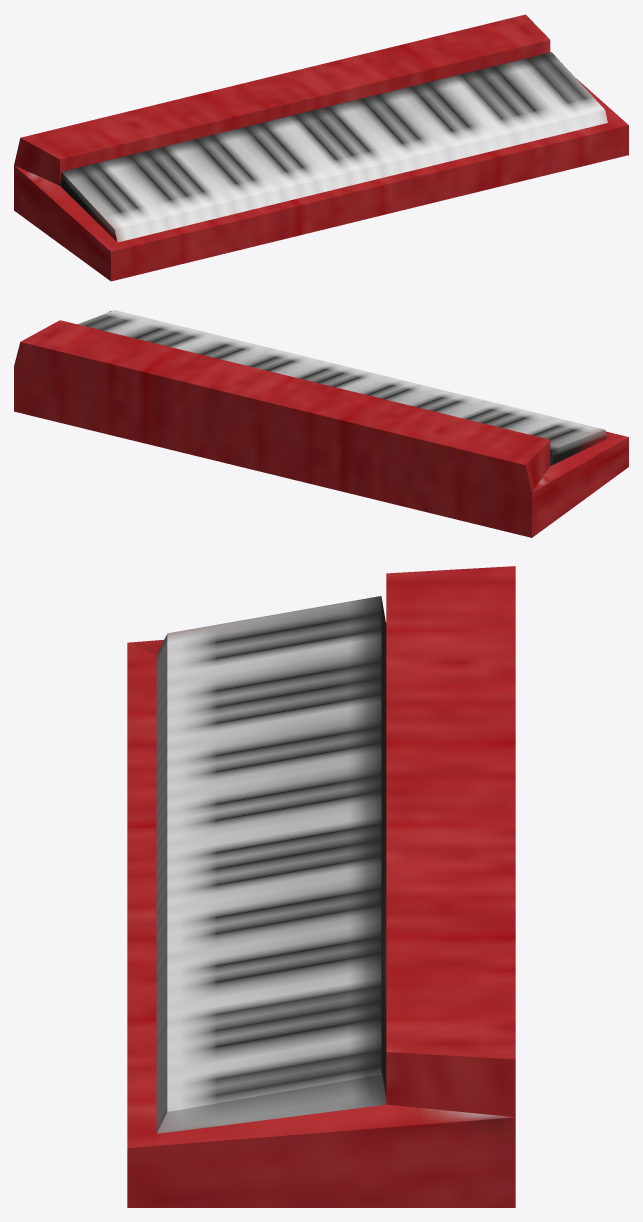
The model's file is int_piano_red.fbx.
3 renders of one model, top to bottom at view 1: azimuth 30°, elevation 25°; view 2: azimuth 150°, elevation 25°; view 3: azimuth 270°, elevation 25°, orthographic. The views are drawn at different scales.
Visible parts, largest first — view 1: keyboard_small.003; view 2: keyboard_small.003; view 3: keyboard_small.003.
Boxes of the visible parts, x1=… form: keyboard_small.003: x1=14, y1=14, x2=628, y2=281; keyboard_small.003: x1=14, y1=310, x2=628, y2=537; keyboard_small.003: x1=127, y1=566, x2=515, y2=1207.
Bounding box in the file's own units: 116 × 15.24 × 37.64.
